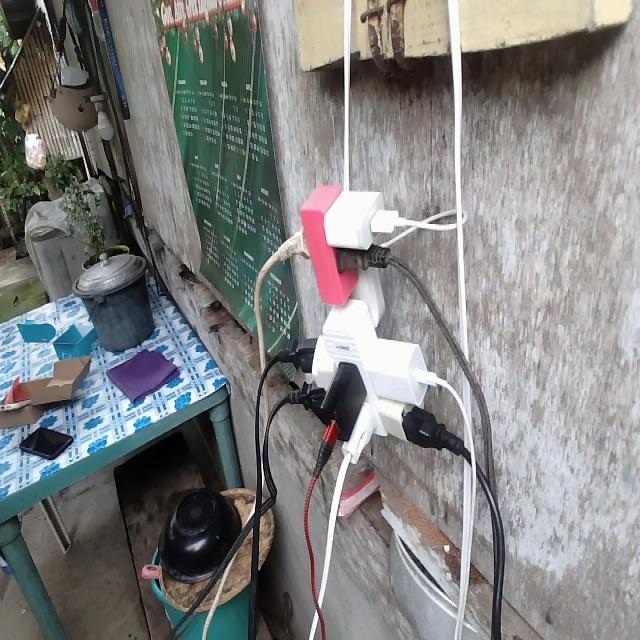-: (273, 183, 467, 477)
